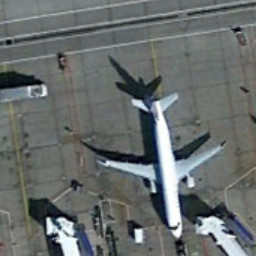Airplane: (95, 82, 233, 247)
